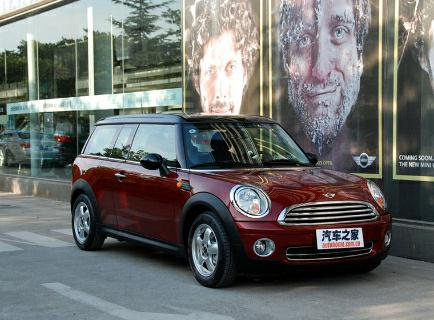MINI CLUBMAN: (61, 110, 399, 283)
